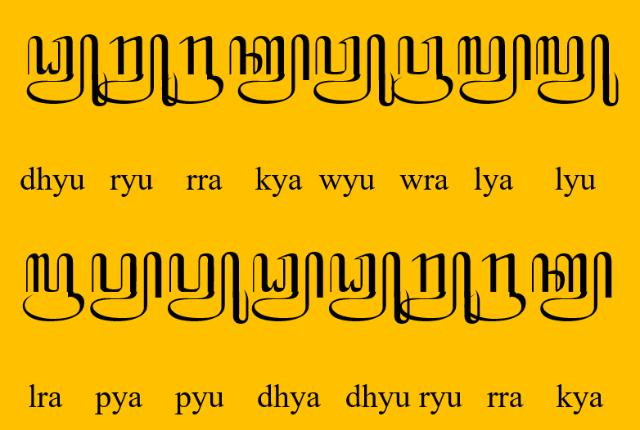dhy: (252, 251, 324, 323)
dhyu: (27, 33, 108, 107), (329, 252, 411, 324)
ky: (229, 33, 311, 105), (531, 251, 613, 323)
lr: (22, 252, 84, 324)
ly: (458, 33, 532, 104)
lyu: (535, 33, 619, 107)
py: (90, 252, 162, 322)
pyu: (167, 250, 249, 326)
rr: (162, 35, 224, 105), (466, 252, 526, 322)
ryu: (98, 34, 178, 106), (400, 252, 480, 324)
wr: (391, 35, 453, 105)
wyu: (313, 33, 395, 107)
